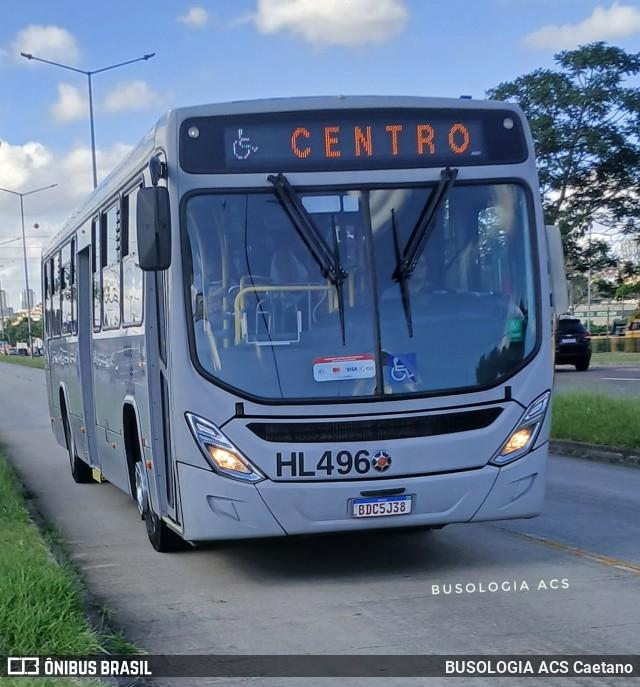CENTRO: (284, 119, 476, 163)
